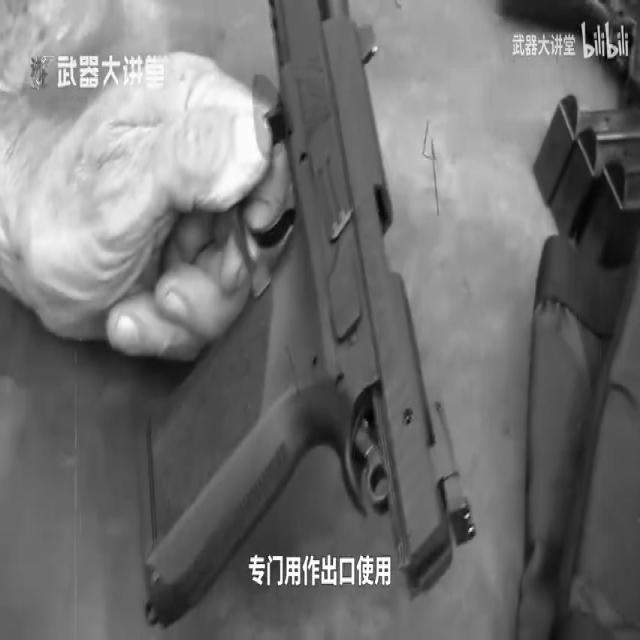Hand-Gun: (119, 0, 467, 562)
